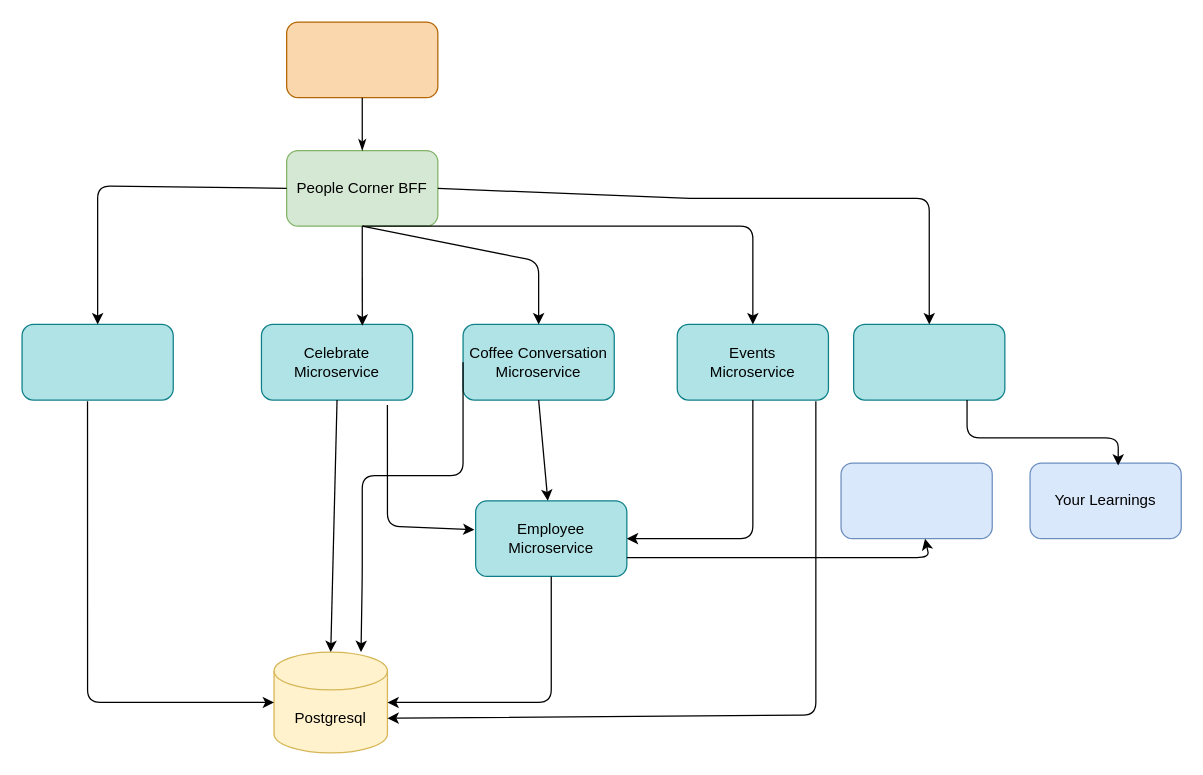
The diagram is 1203 pixels wide and 775 high, and some of its shapes have lost their labels. The shapes that lost their labels are listed below. From the top down, each one's box as (x1, y1, x2, y2) in pixels, then its label:
(285, 21, 438, 98): People Corner Frontend
(21, 323, 173, 400): Team Microservice
(852, 323, 1005, 400): Learning Microservice
(840, 462, 992, 539): Bluepages
